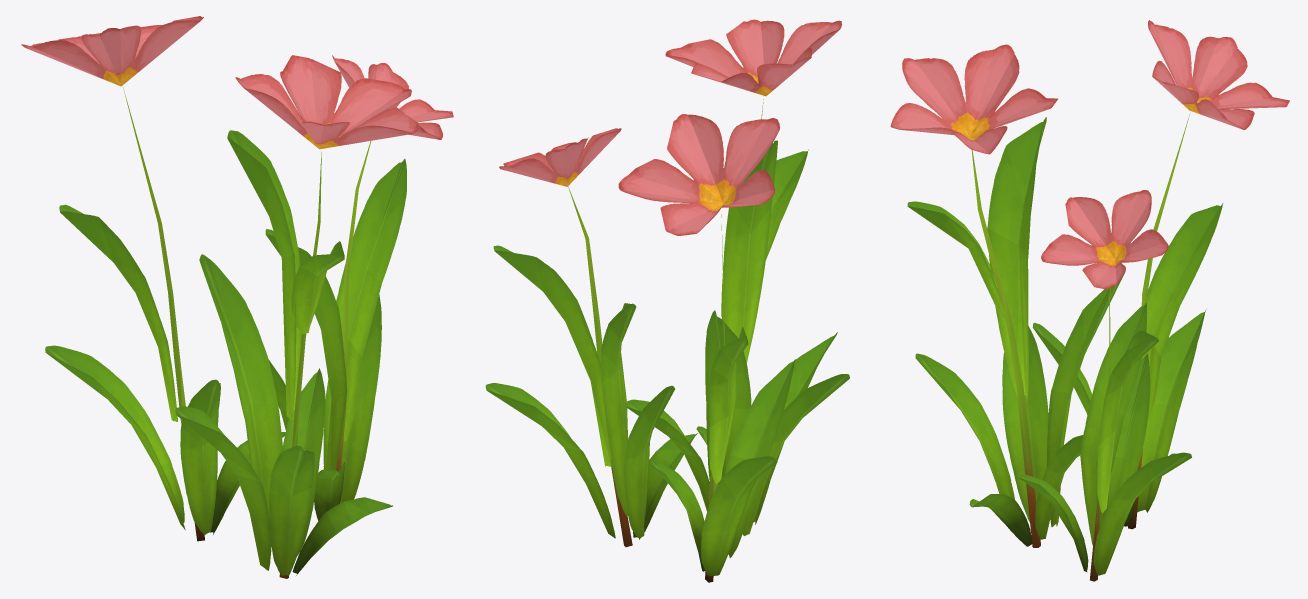
File: Flower_3_Group.glb
3 views of the same model, side by side, from view 1: azimuth 30°, elevation 25°; view 2: azimuth 150°, elevation 25°; view 3: azimuth 270°, elevation 25° (orthographic). The views are drawn at different scales.
Size of the model in its own units: 1.49 by 2.05 by 1.59.
2 materials, 2 textured.
